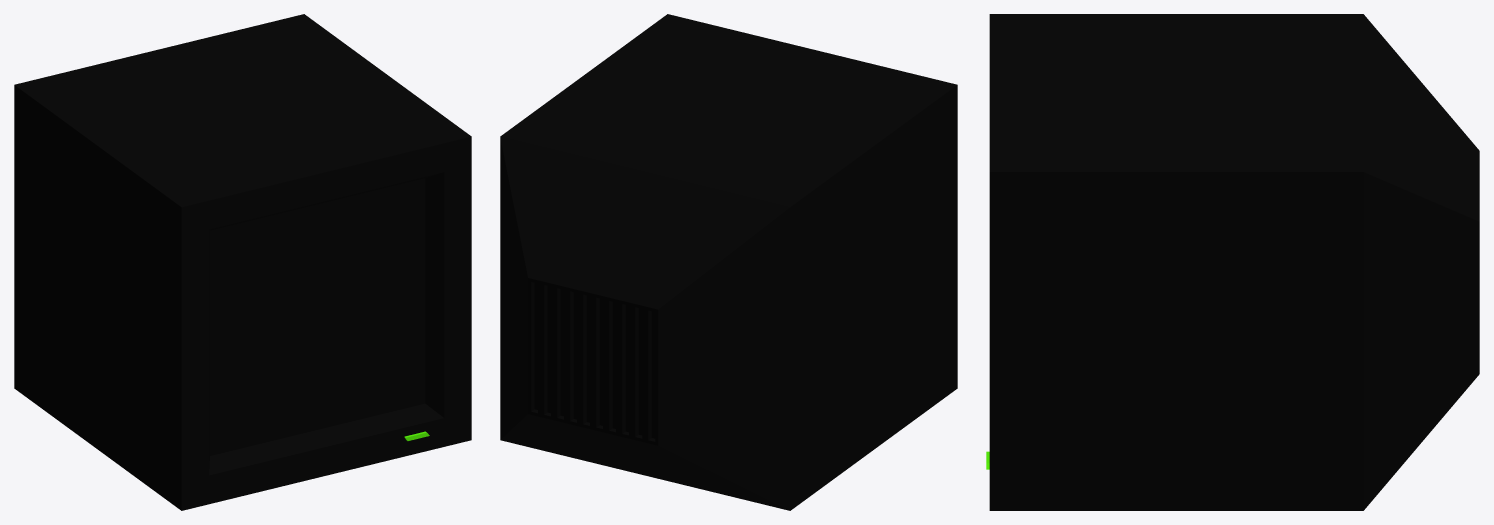
File: square_screen.glb
3 views of the same model, side by side, from view 1: azimuth 30°, elevation 25°; view 2: azimuth 150°, elevation 25°; view 3: azimuth 270°, elevation 25° (orthographic). The views are drawn at different scales.
Parts seen in each view (by area): view 1: Frame, Display; view 2: Frame; view 3: Frame.
Boxes of the visible parts, left/top/right/bottom form: Frame: left=14, top=14, right=471, bottom=510; Display: left=210, top=178, right=425, bottom=455; Frame: left=500, top=14, right=957, bottom=510; Frame: left=986, top=14, right=1479, bottom=510.
Bounding box in the file's own units: 0.4337 × 0.4337 × 0.5725.
1 material, 1 textured.
